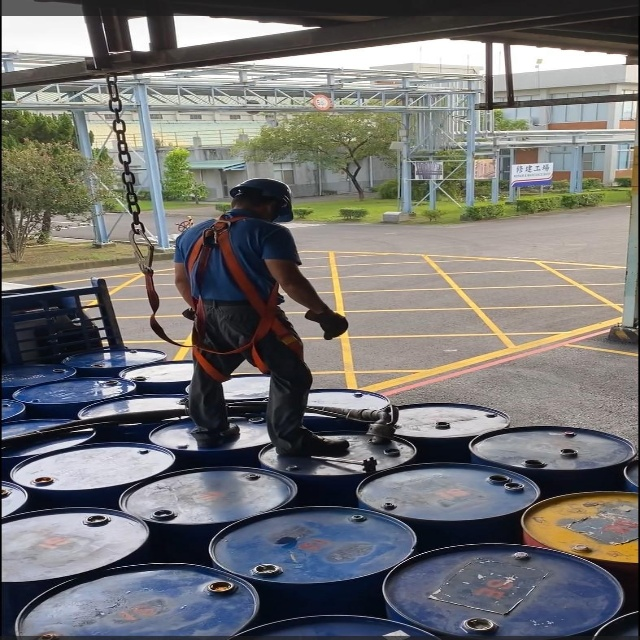Arnes_seguridad: (177, 218, 308, 381)
